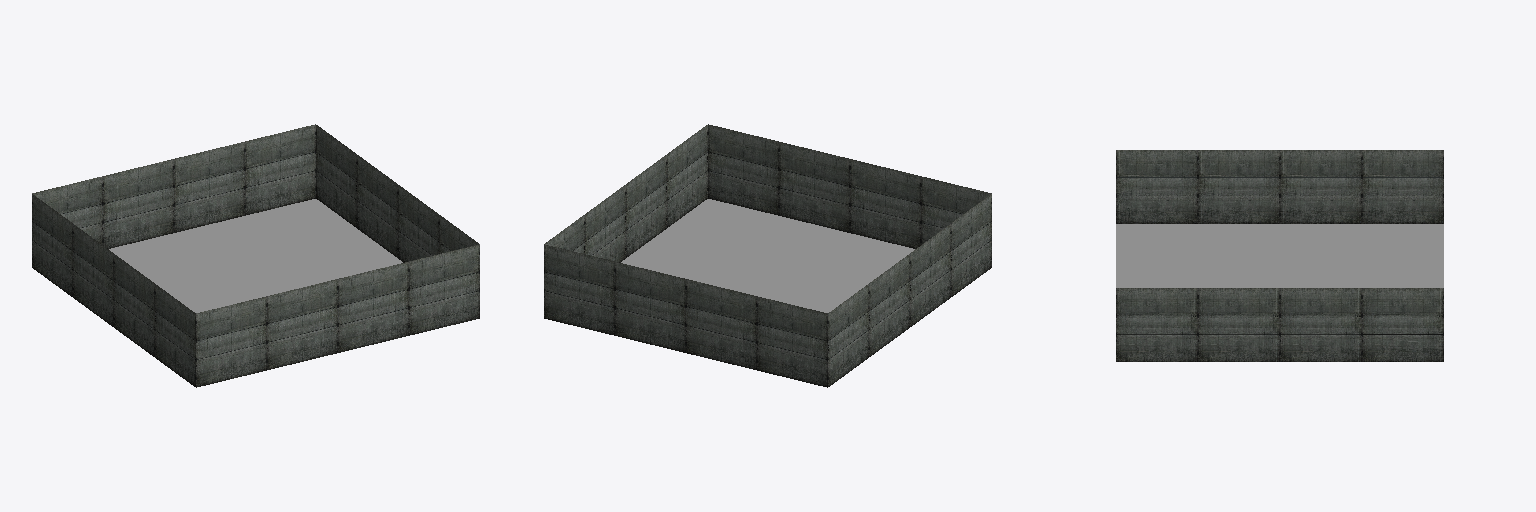
3 renders of one model, left to right at view 1: azimuth 30°, elevation 25°; view 2: azimuth 150°, elevation 25°; view 3: azimuth 270°, elevation 25°, orthographic.
Parts seen in each view (by area): view 1: Wall1_Plane.001, Wall2_Plane.002, MetalFloor_Plane.008, Wall3_Plane.003, Wall4_Plane.004; view 2: Wall2_Plane.002, Wall1_Plane.001, MetalFloor_Plane.008, Wall3_Plane.003, Wall4_Plane.004; view 3: Wall4_Plane.004, Wall3_Plane.003, MetalFloor_Plane.008.
Part boxes in pixels (x1,y1,x2,y2): Wall1_Plane.001: (196,244,479,387); Wall2_Plane.002: (32,124,315,248); MetalFloor_Plane.008: (109,199,402,312); Wall3_Plane.003: (32,194,195,386); Wall4_Plane.004: (316,125,478,262); Wall2_Plane.002: (544,244,827,387); Wall1_Plane.001: (708,124,991,248); MetalFloor_Plane.008: (621,199,914,312); Wall3_Plane.003: (828,194,991,386); Wall4_Plane.004: (545,125,707,262); Wall4_Plane.004: (1116,288,1443,361); Wall3_Plane.003: (1116,150,1443,223); MetalFloor_Plane.008: (1116,224,1443,287).
Bounding box in the file's own units: 16 × 4 × 16.
Materials: 2 (1 with a texture image).